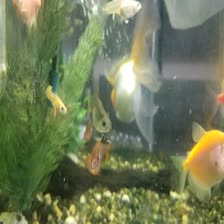Cuezo: (113, 2, 163, 135)
Guppy: (81, 89, 110, 129), (38, 82, 68, 118)
Plano: (171, 119, 223, 201)
Transparente: (86, 141, 115, 175)
